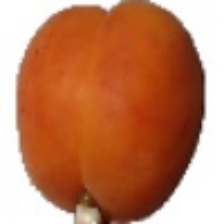apricot: (47, 34, 197, 205)
